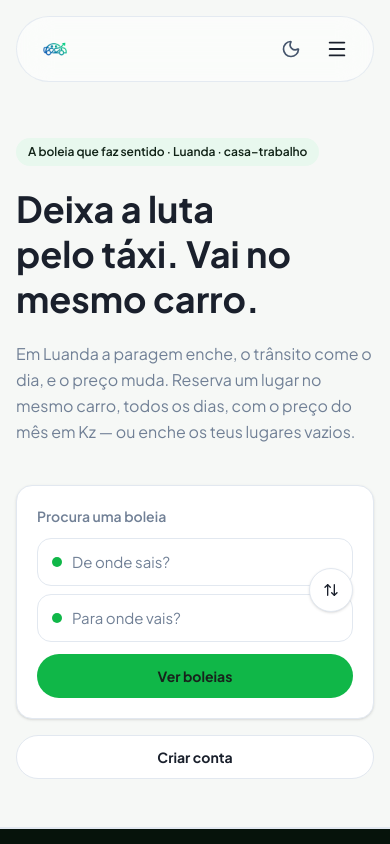
Test case: LandingPage › expõe âncoras das secções e menu mobile funcional
The image size is (390, 844).
Click the button named "abrir menu": coordinates (337, 49) [317, 29, 357, 69]
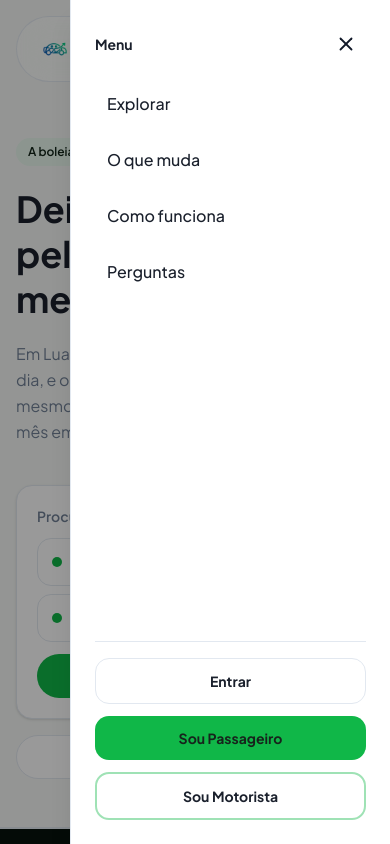
Check: the 1st button named "abrir menu" is expanded, box [317, 29, 357, 69]
Check: the element with test id "landing-menu-overlay" is shown
